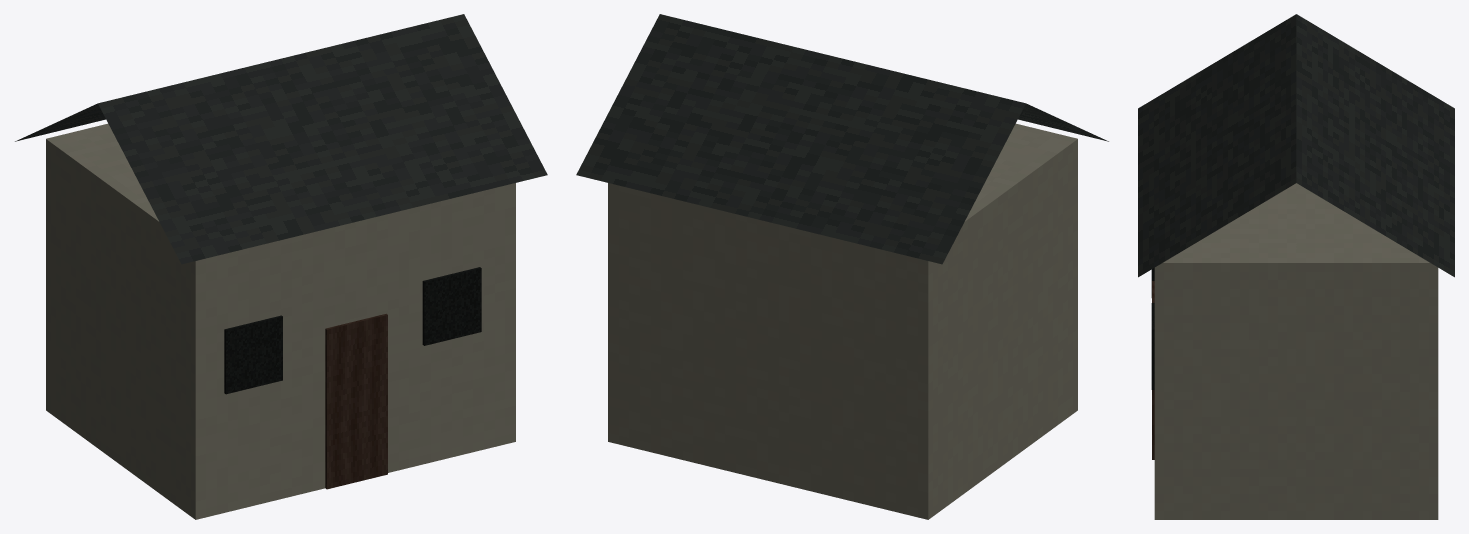
The model's file is house.glb.
3 renders of one model, left to right at view 1: azimuth 30°, elevation 25°; view 2: azimuth 150°, elevation 25°; view 3: azimuth 270°, elevation 25°, orthographic. The views are drawn at different scales.
Parts seen in each view (by area): view 1: house; view 2: house; view 3: house.
Part boxes in pixels (x1=…): house: x1=15, y1=14, x2=547, y2=519; house: x1=576, y1=14, x2=1108, y2=519; house: x1=1138, y1=14, x2=1454, y2=519.
Bounding box in the file's own units: 4.8 × 4.6 × 3.8.
Materials: 1 (1 with a texture image).
